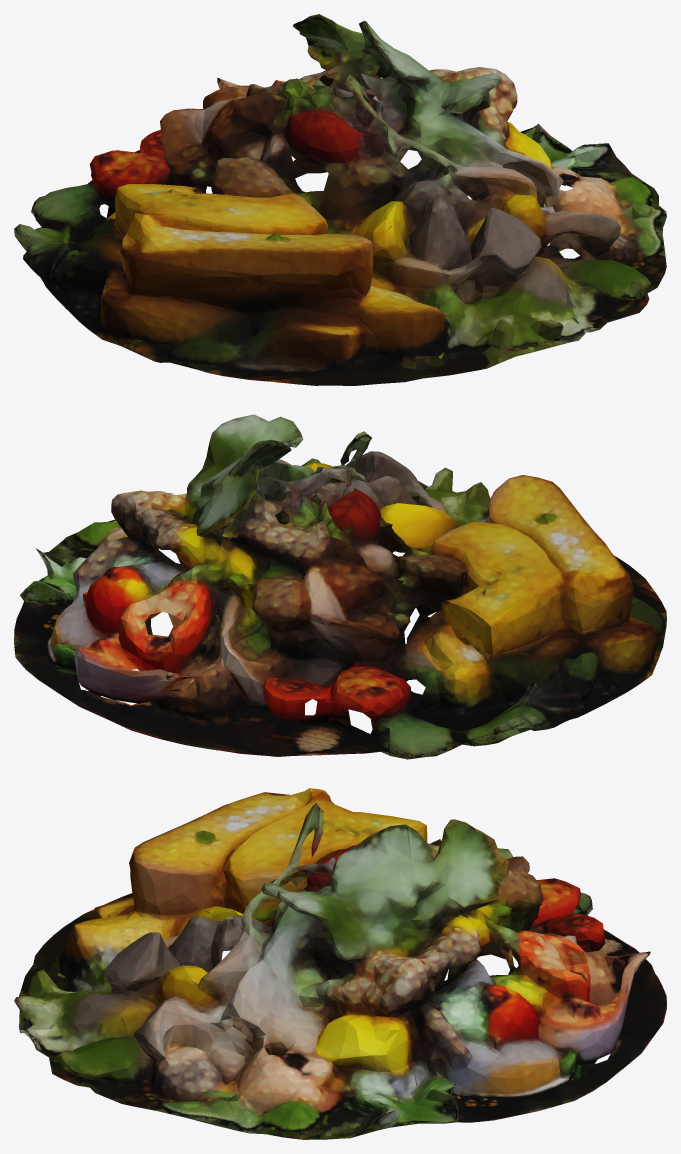
Rendered from lomo-saltado.glb.
3 renders of one model, top to bottom at view 1: azimuth 30°, elevation 25°; view 2: azimuth 150°, elevation 25°; view 3: azimuth 270°, elevation 25°, orthographic. The views are drawn at different scales.
Parts seen in each view (by area): view 1: world; view 2: world; view 3: world.
Part boxes in pixels (x1,y1,x2,y2): world: (14, 14, 666, 385); world: (14, 414, 666, 759); world: (14, 788, 666, 1139).
Bounding box in the file's own units: 0.27 × 0.0915 × 0.2627.
Materials: 1 (1 with a texture image).
